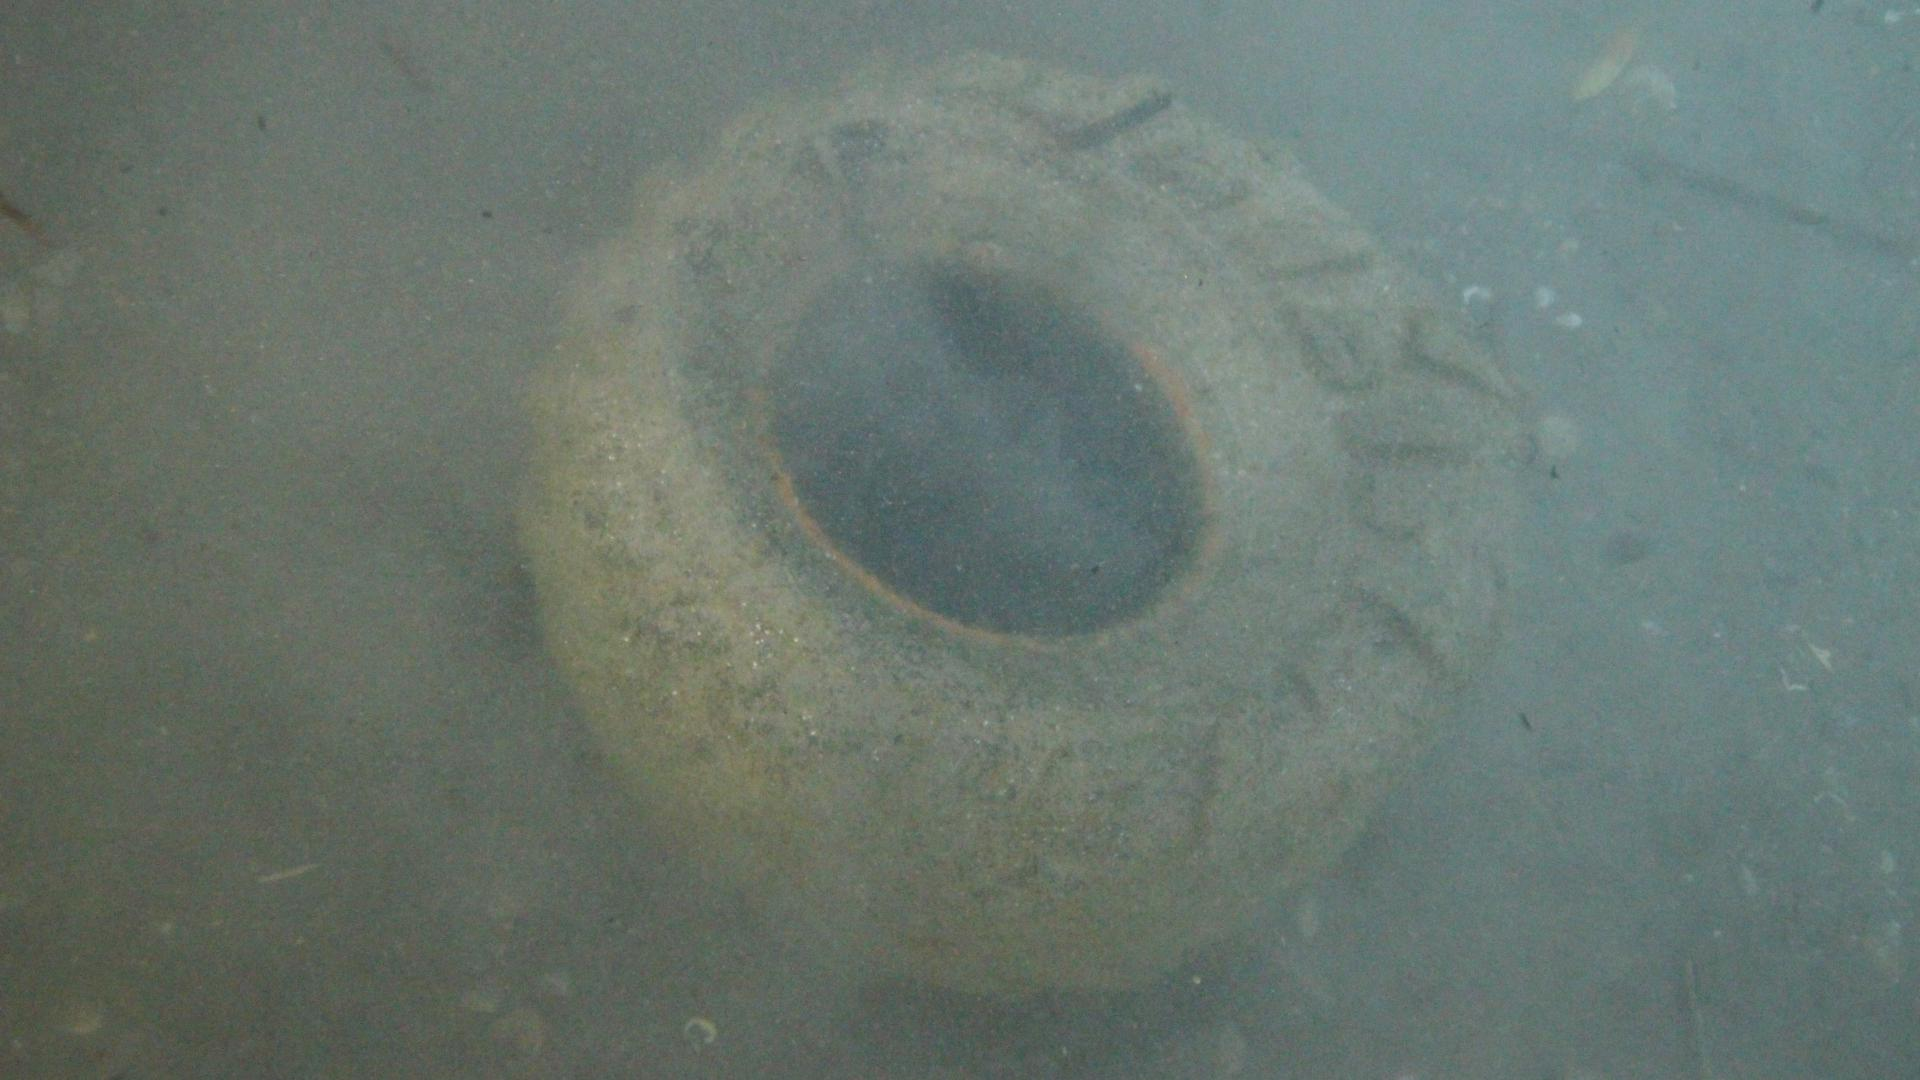tire: (521, 51, 1516, 996)
